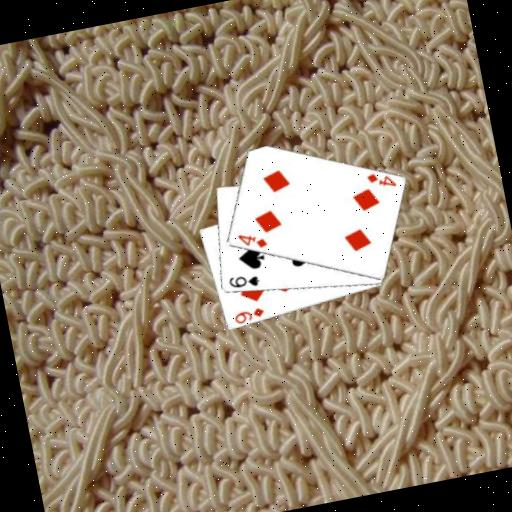4D: (233, 227, 269, 254), (362, 167, 398, 194)
6S: (224, 270, 262, 294)
9D: (229, 304, 267, 327)
